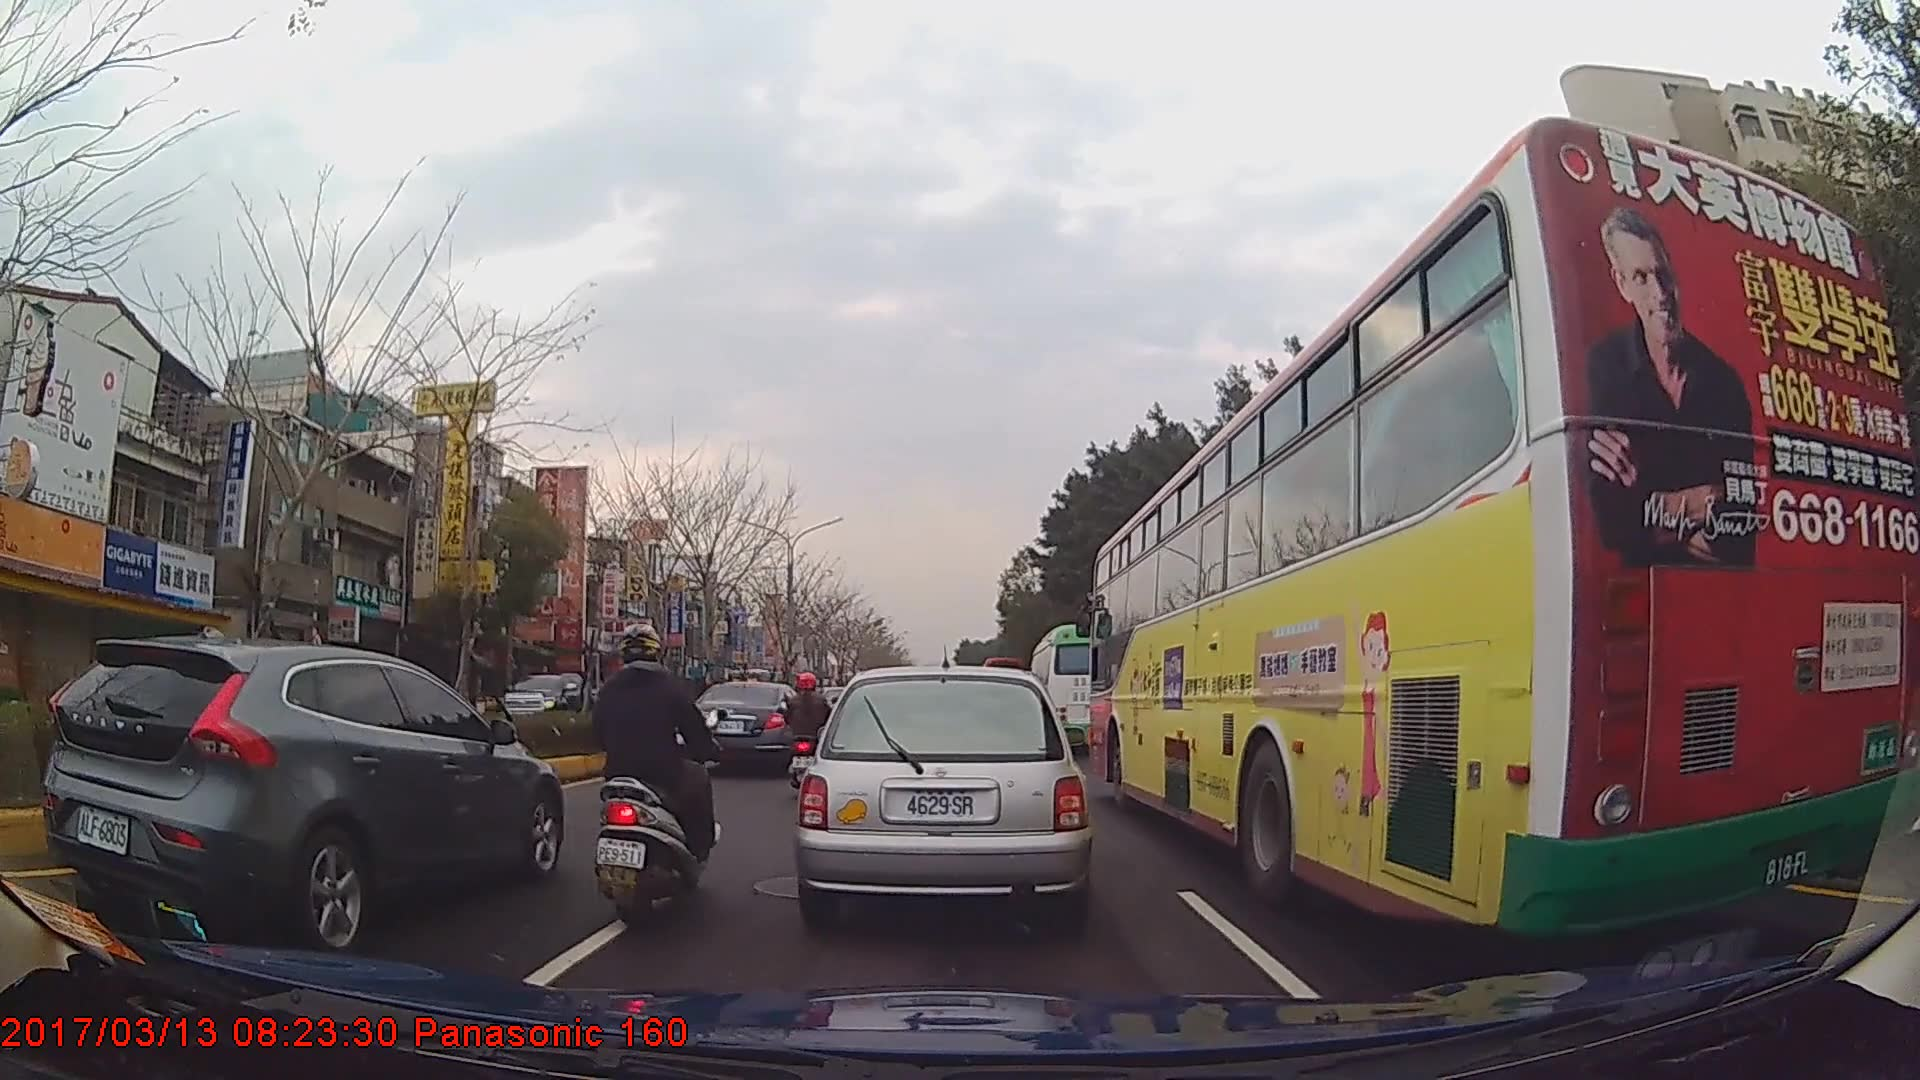rider: (585, 620, 715, 928), (780, 671, 837, 790)
vehicle: (1086, 117, 1920, 944), (41, 635, 563, 956), (794, 661, 1093, 935), (1029, 622, 1129, 754), (688, 679, 810, 774), (492, 669, 606, 731)
